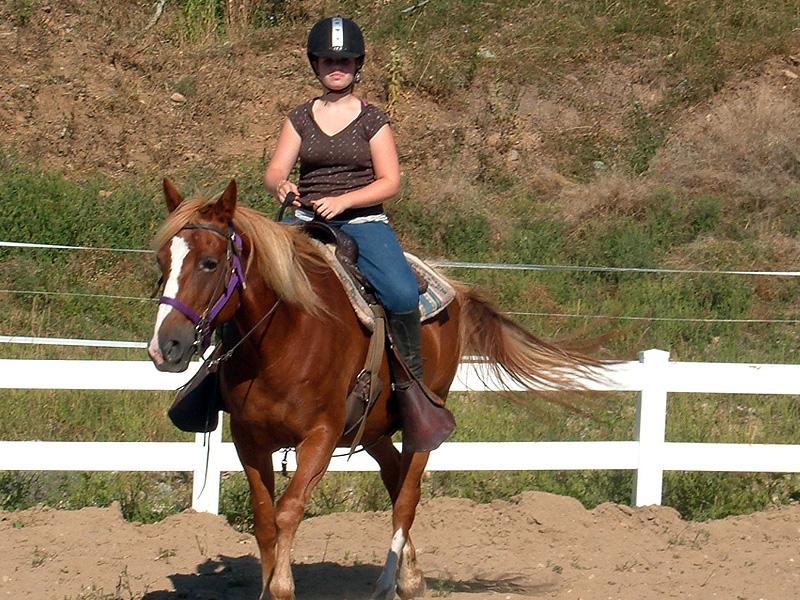person: (169, 10, 449, 449)
